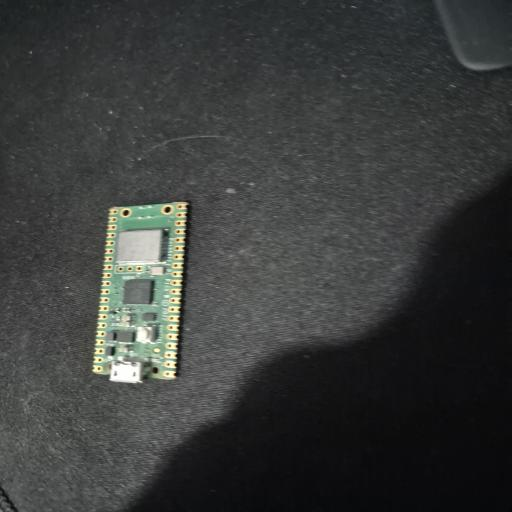raspberry-pi-pico-w: (93, 202, 188, 383)
